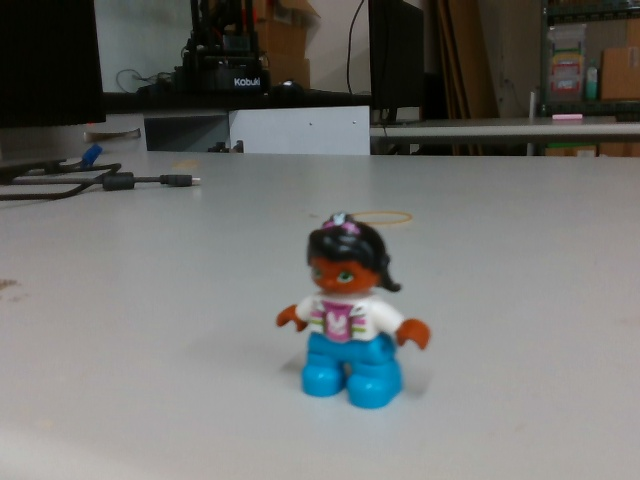people: (273, 209, 434, 415)
